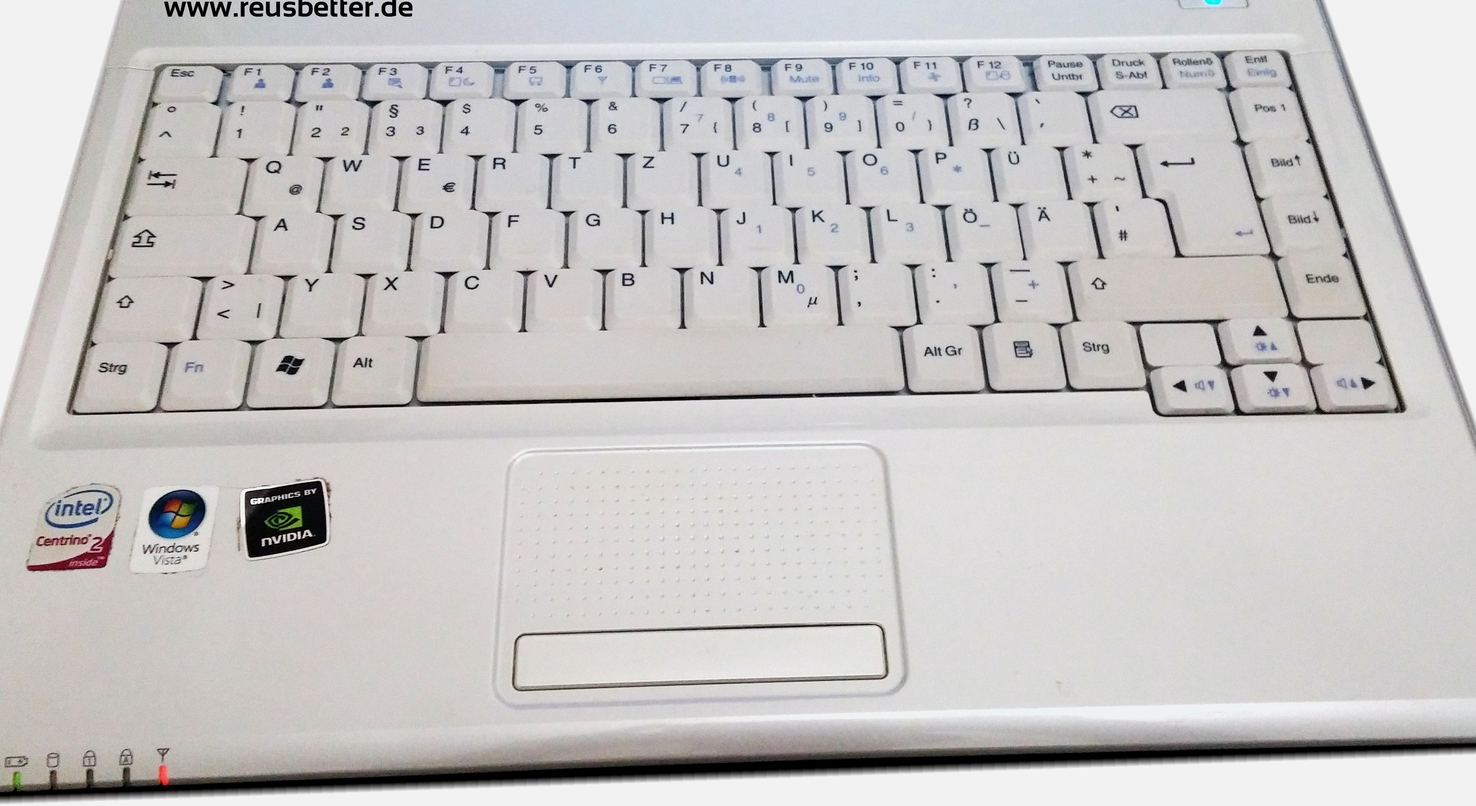0: (398, 0, 432, 23)
1: (69, 0, 106, 29)
2: (107, 0, 143, 27)
3: (144, 0, 180, 27)
4: (182, 0, 217, 26)
5: (218, 0, 252, 26)
6: (255, 0, 289, 26)
7: (291, 0, 325, 24)
8: (327, 0, 360, 24)
9: (362, 0, 396, 23)
a: (86, 55, 125, 86)
accent: (469, 0, 505, 22)
ae: (472, 49, 508, 80)
alt-left: (124, 117, 166, 152)
altgr-right: (411, 110, 451, 145)
b: (262, 83, 301, 115)
c: (182, 85, 221, 115)
caret: (28, 0, 68, 29)
comma: (378, 81, 418, 113)
d: (166, 54, 204, 86)
del: (503, 0, 576, 22)
e: (158, 26, 196, 56)
enter: (528, 15, 593, 77)
f: (205, 54, 242, 85)
g: (243, 54, 282, 85)
h: (284, 53, 319, 82)
hash: (508, 48, 547, 78)
i: (346, 23, 382, 52)
j: (320, 52, 356, 82)
k: (359, 52, 395, 82)
keyboard: (0, 0, 672, 165)
l: (397, 51, 432, 80)
less: (58, 86, 101, 119)
m: (340, 81, 378, 113)
minus: (458, 80, 496, 111)
n: (302, 83, 339, 114)
o: (383, 23, 419, 51)
oe: (434, 50, 471, 80)
p: (420, 23, 456, 50)
plus: (493, 20, 529, 49)
point: (417, 80, 457, 111)
q: (80, 27, 120, 57)
r: (196, 26, 234, 54)
s: (124, 54, 164, 85)
shift-left: (3, 87, 59, 120)
shift-lock: (11, 56, 86, 87)
shift-right: (493, 76, 603, 110)
space: (165, 114, 412, 149)
ss: (433, 0, 468, 22)
strg-left: (0, 119, 41, 156)
strg-right: (490, 108, 532, 143)
t: (235, 25, 271, 54)
tab: (19, 26, 81, 56)
u: (310, 24, 346, 52)
ue: (456, 22, 493, 50)
v: (222, 83, 260, 115)
w: (122, 26, 159, 56)
x: (141, 84, 182, 117)
y: (100, 86, 141, 118)
z: (274, 25, 310, 53)
